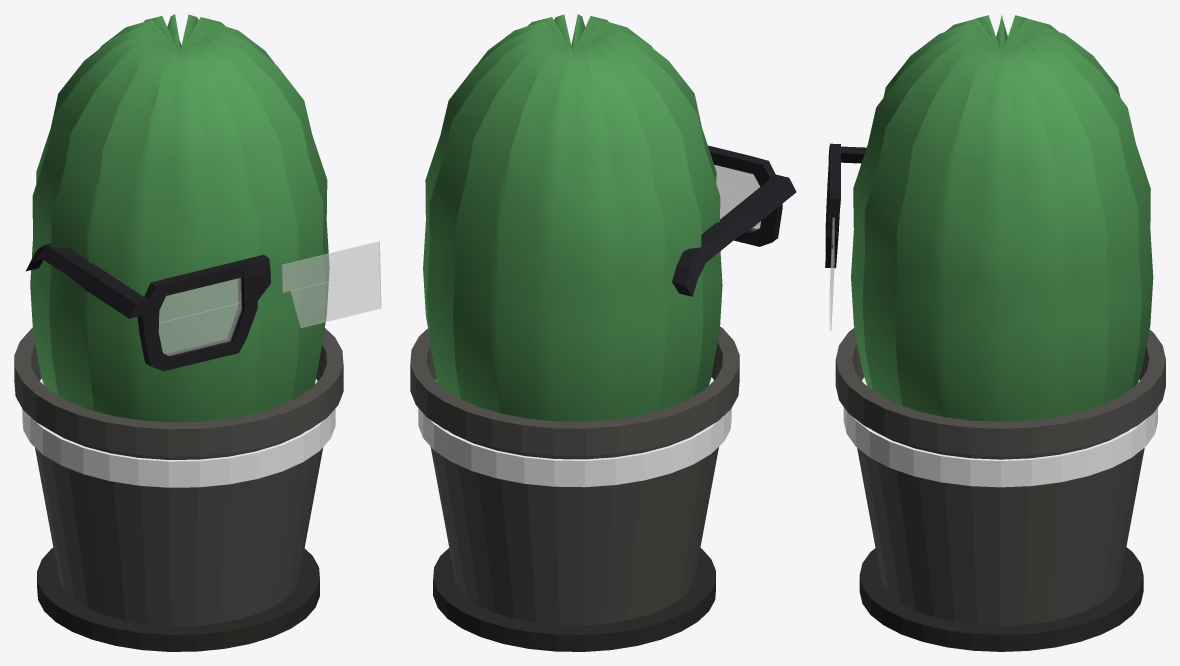
File: cactus with glasses.glb
3 renders of one model, left to right at view 1: azimuth 30°, elevation 25°; view 2: azimuth 150°, elevation 25°; view 3: azimuth 270°, elevation 25°, orthographic.
Parts seen in each view (by area): view 1: Sphere, Cylinder, Cube, Cylinder.001, Cylinder.002, Cube.002, Cube.001; view 2: Sphere, Cylinder, Cylinder.001, Cylinder.002, Cube, Cube.001; view 3: Sphere, Cylinder, Cylinder.001, Cylinder.002, Cube.
Boxes of the visible parts, <box> form: Sphere: <box>30,14,329,422</box>; Cylinder: <box>14,328,343,625</box>; Cube: <box>26,243,270,371</box>; Cylinder.001: <box>37,548,319,651</box>; Cylinder.002: <box>22,378,335,487</box>; Cube.002: <box>281,241,381,327</box>; Cube.001: <box>158,278,241,355</box>; Sphere: <box>423,14,722,421</box>; Cylinder: <box>410,326,739,625</box>; Cylinder.001: <box>433,548,715,651</box>; Cylinder.002: <box>418,377,731,487</box>; Cube: <box>672,145,796,296</box>; Cube.001: <box>714,165,760,230</box>; Sphere: <box>851,15,1153,421</box>; Cylinder: <box>835,328,1165,625</box>; Cylinder.001: <box>859,547,1143,651</box>; Cylinder.002: <box>843,377,1157,487</box>; Cube: <box>825,143,866,268</box>.
Size of the model in its own units: 1.07 by 2.02 by 1.11.
